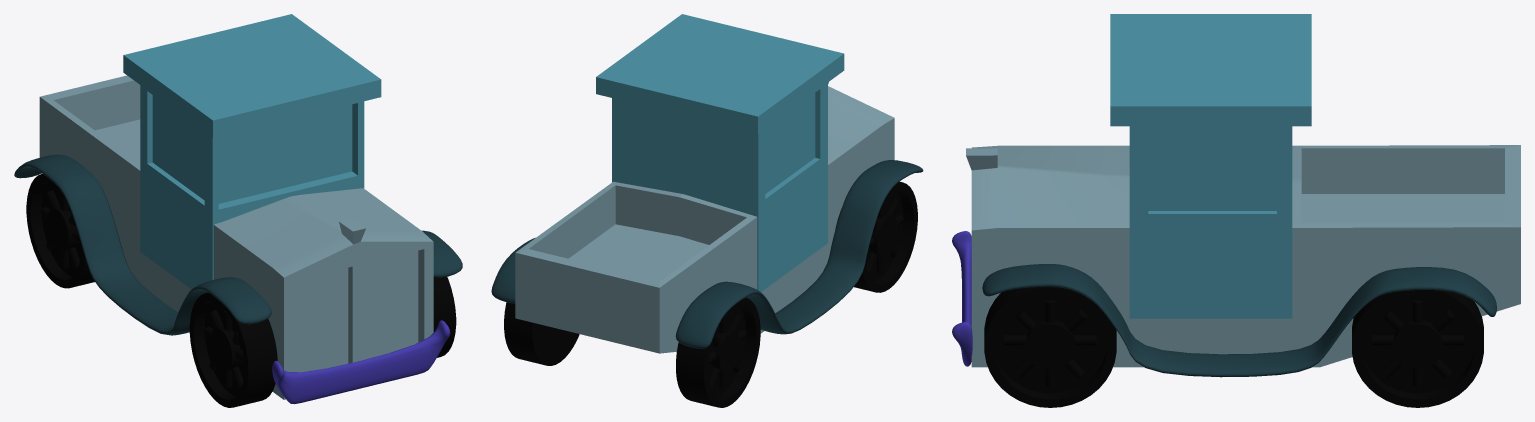
Rendered from Camioneta.fbx.
3 renders of one model, left to right at view 1: azimuth 30°, elevation 25°; view 2: azimuth 150°, elevation 25°; view 3: azimuth 270°, elevation 25°, orthographic. The views are drawn at different scales.
Parts seen in each view (by area): view 1: pCube2, pCube1, pCube7, pCylinder39, pCube4, pCylinder40, pCylinder37; view 2: pCube2, pCube1, pCube7, pCylinder40, pCylinder39, pCylinder38; view 3: pCube1, pCube2, pCylinder37, pCylinder38, pCube7, pCube4.
Part boxes in pixels (x1=…): pCube2: x1=123, y1=14, x2=381, y2=289; pCube1: x1=39, y1=75, x2=433, y2=399; pCube7: x1=14, y1=154, x2=462, y2=335; pCylinder39: x1=189, y1=292, x2=277, y2=407; pCube4: x1=272, y1=320, x2=450, y2=404; pCylinder40: x1=26, y1=173, x2=94, y2=288; pCylinder37: x1=433, y1=277, x2=456, y2=357; pCube2: x1=596, y1=14, x2=844, y2=291; pCube1: x1=515, y1=82, x2=894, y2=353; pCube7: x1=491, y1=160, x2=923, y2=348; pCylinder40: x1=676, y1=297, x2=760, y2=407; pCylinder39: x1=835, y1=181, x2=917, y2=292; pCylinder38: x1=504, y1=302, x2=579, y2=365; pCube1: x1=966, y1=145, x2=1520, y2=367; pCube2: x1=1110, y1=14, x2=1311, y2=318; pCylinder37: x1=984, y1=286, x2=1116, y2=407; pCylinder38: x1=1352, y1=290, x2=1483, y2=407; pCube7: x1=982, y1=264, x2=1496, y2=377; pCube4: x1=952, y1=231, x2=972, y2=366.
Bounding box in the file's own units: 8.34 × 9.04 × 16.
